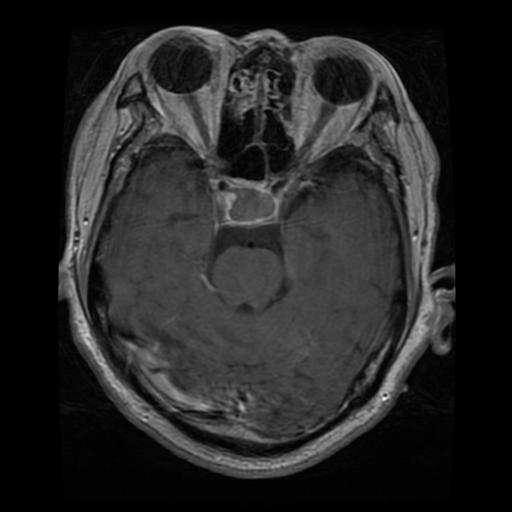Pituirity_tumour: (223, 183, 277, 225)
